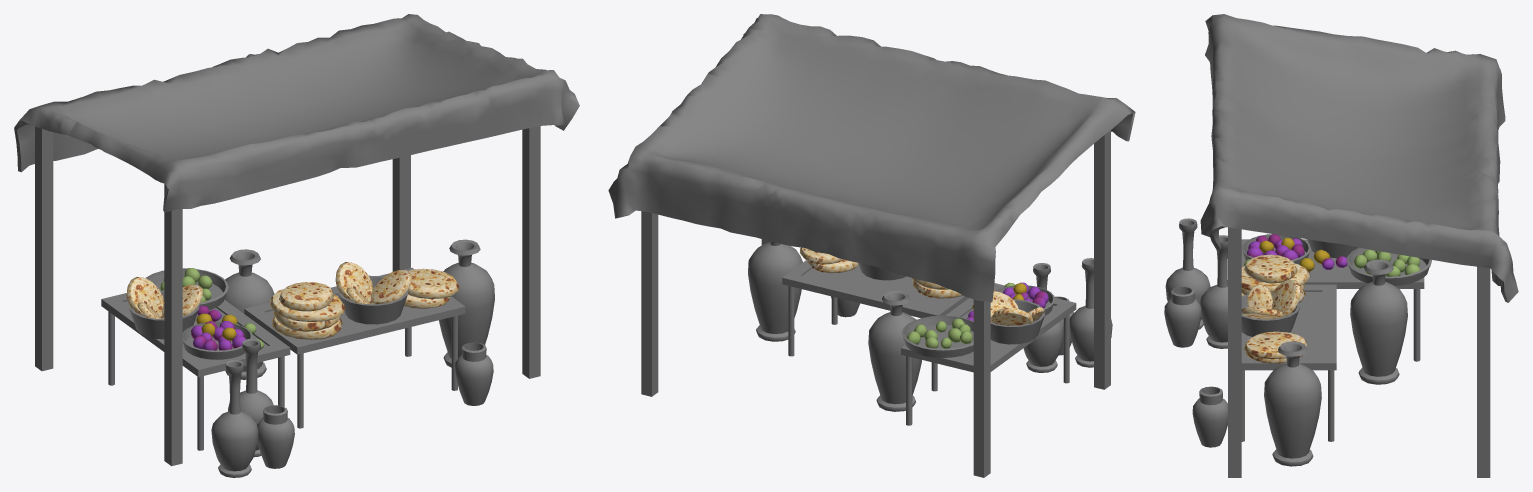
File: SM_marketstand_preset_04.fbx
The picture shows the model from 3 angles, left to right: view 1: azimuth 30°, elevation 25°; view 2: azimuth 150°, elevation 25°; view 3: azimuth 270°, elevation 25°; orthographic projection. The views are drawn at different scales.
Visible parts, largest first — view 1: Object33230; view 2: Object33230; view 3: Object33230.
Boxes of the visible parts, x1,y1,x2,y2 form: Object33230: [14, 14, 579, 477]; Object33230: [608, 14, 1135, 477]; Object33230: [1164, 14, 1518, 477].
Bounding box in the file's own units: 170 × 120 × 131.
